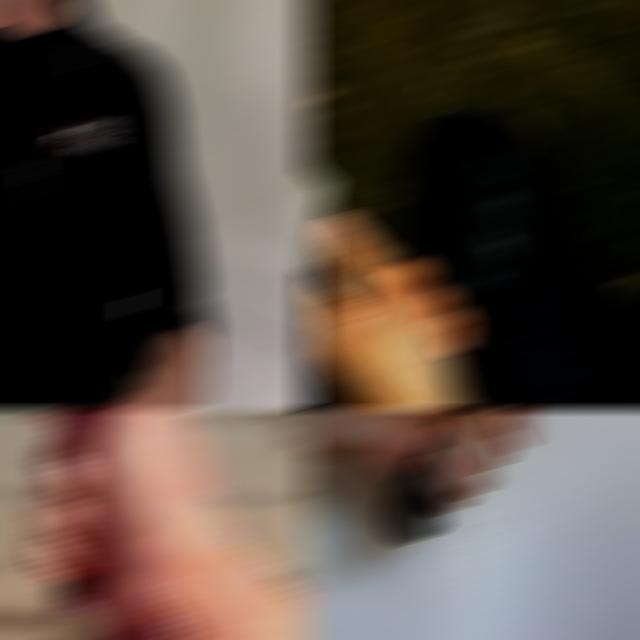Knife_Handle: (300, 2, 488, 408), (1, 410, 175, 638), (368, 410, 640, 545)
